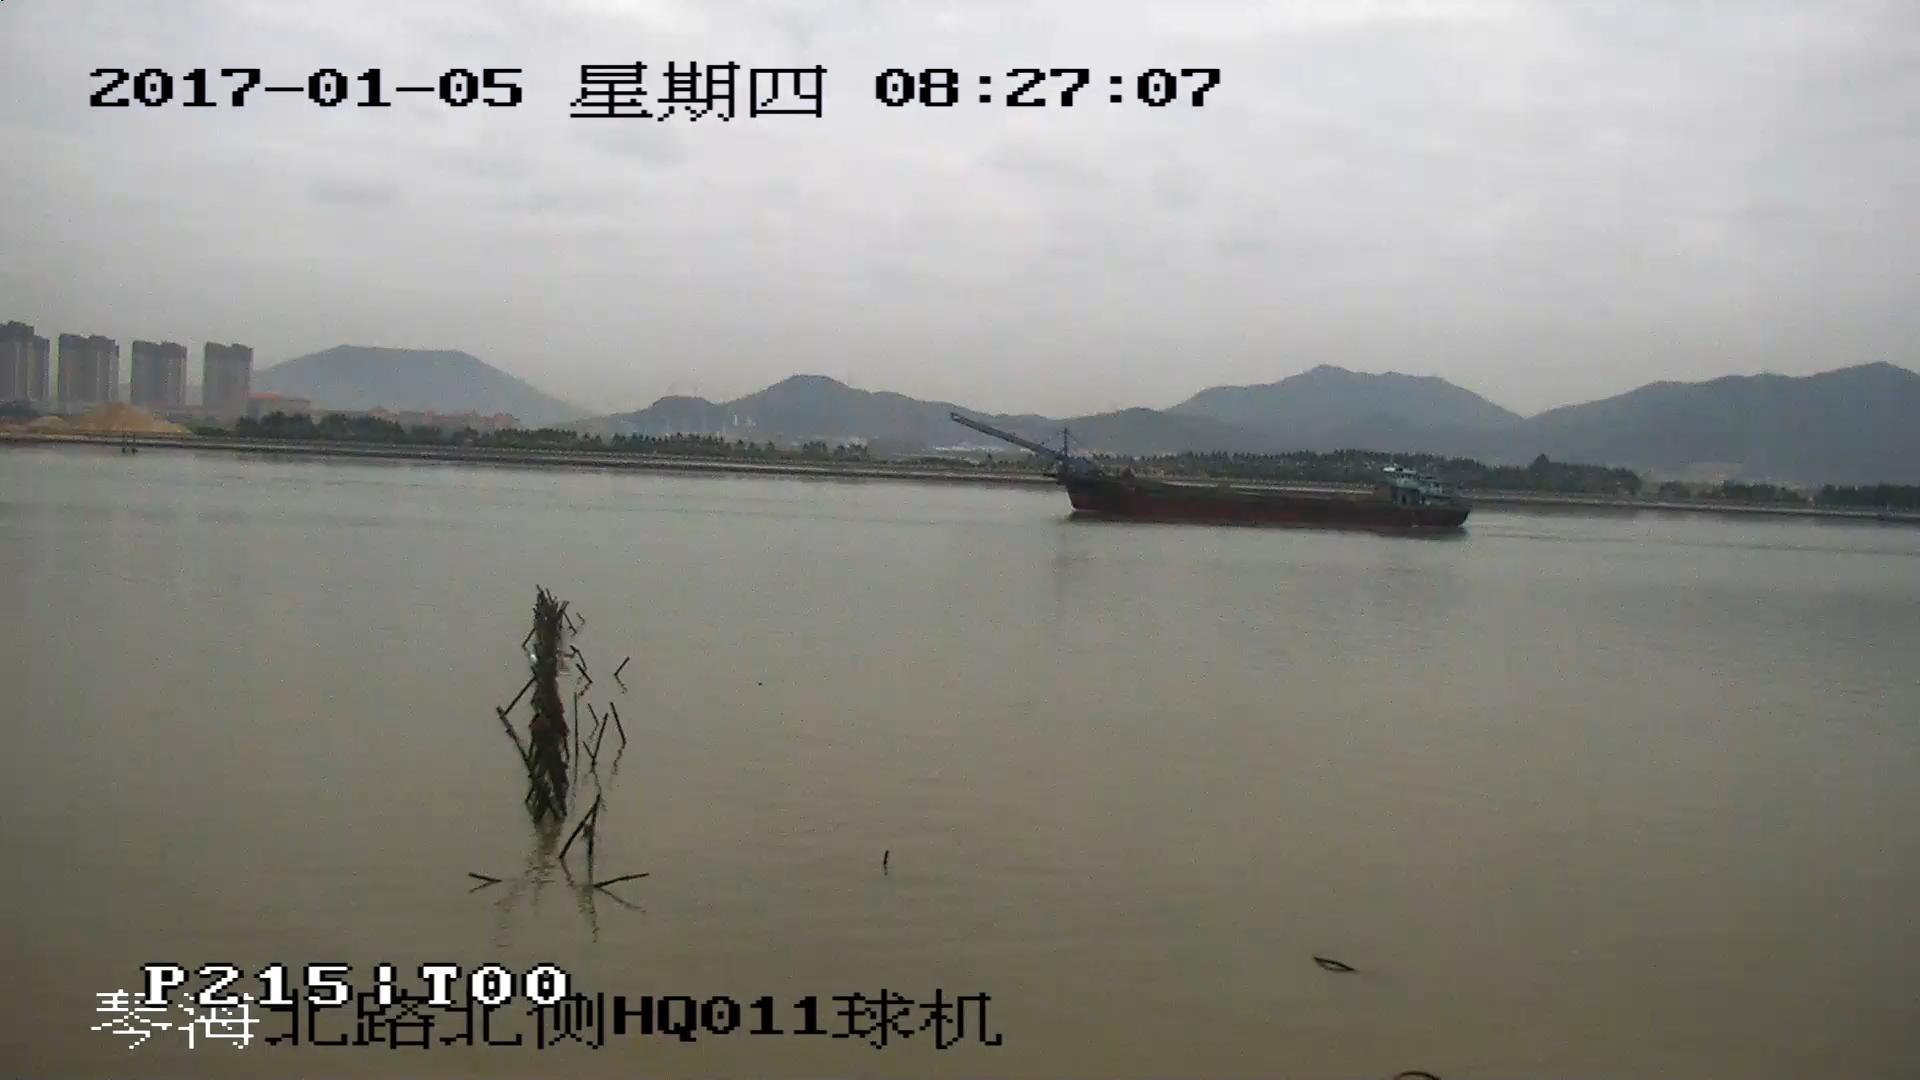Ship: (955, 415, 1476, 525)
